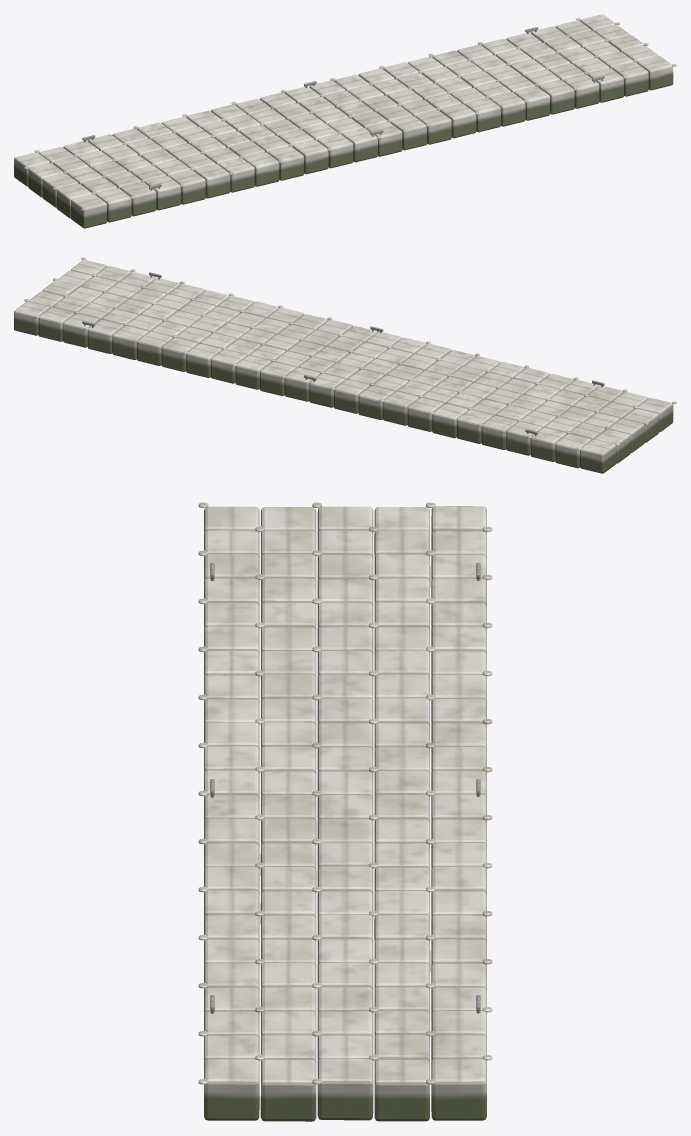
The model's file is FloatingPier_Walk.gltf.
3 views of the same model, one above another, from view 1: azimuth 30°, elevation 25°; view 2: azimuth 150°, elevation 25°; view 3: azimuth 270°, elevation 25° (orthographic). The views are drawn at different scales.
Parts seen in each view (by area): view 1: FloatingPier_Walk; view 2: FloatingPier_Walk; view 3: FloatingPier_Walk.
Boxes of the visible parts, x1,y1,x2,y2 form: FloatingPier_Walk: (14, 14, 676, 228); FloatingPier_Walk: (14, 257, 676, 473); FloatingPier_Walk: (198, 502, 492, 1121).
Size of the model in its own units: 12.09 by 0.4926 by 2.59.
Materials: 2 (2 with a texture image).
